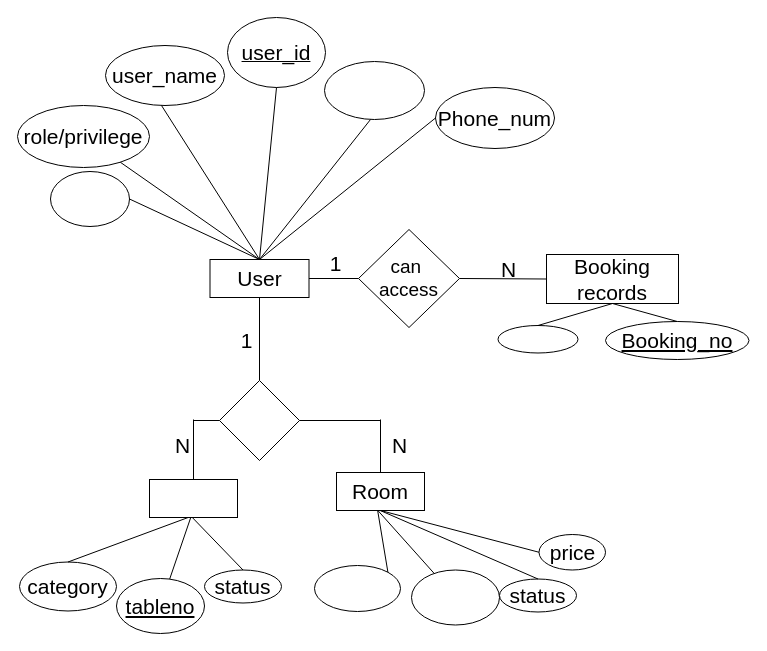
Image size: 767x651. Some labels were removed from this diagram. The shapes that lost their labels are listed below. From the top down, each one's centre as x and y in pixels, then its label:
At point 374,90: "password".
At point 90,198: "email".
At point 537,338: "time".
At point 259,420: "Book".
At point 193,498: "Table".
At point 357,588: "catagory".
At point 455,597: "Roomno".
